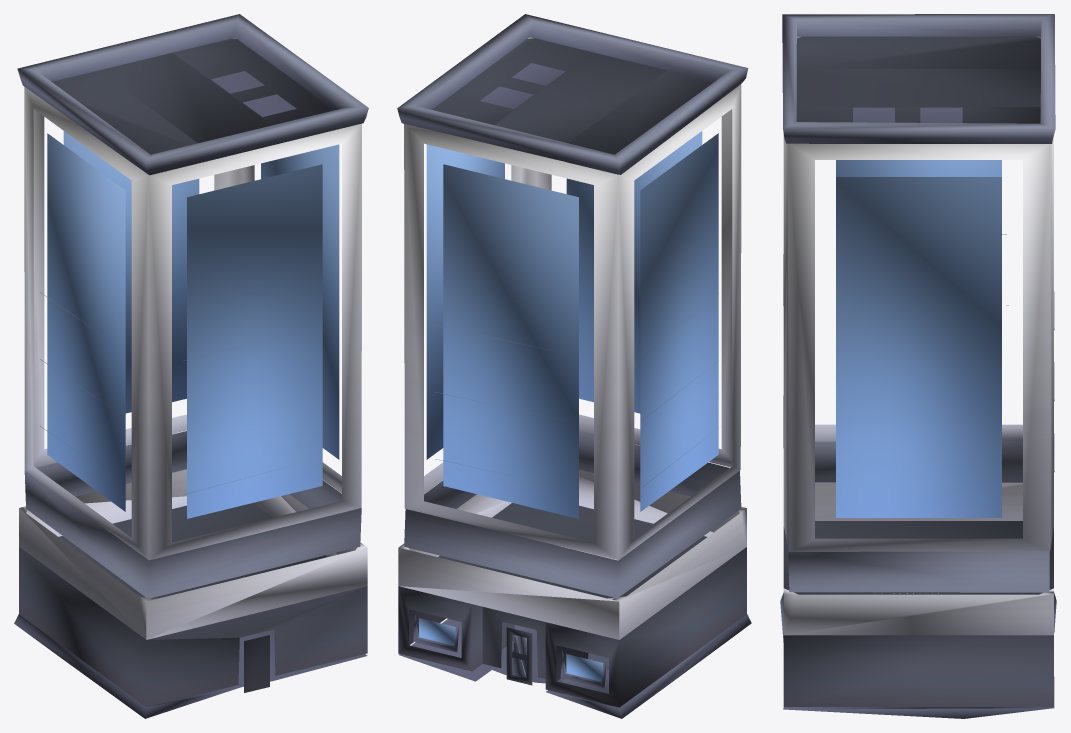
The model's file is tower-sky-a-low.glb.
3 renders of one model, left to right at view 1: azimuth 30°, elevation 25°; view 2: azimuth 150°, elevation 25°; view 3: azimuth 270°, elevation 25°, orthographic. The views are drawn at different scales.
Parts seen in each view (by area): view 1: building-skyscraper-a baked; view 2: building-skyscraper-a baked; view 3: building-skyscraper-a baked.
Boxes of the visible parts, x1,y1,x2,y2 form: building-skyscraper-a baked: (14, 14, 368, 718); building-skyscraper-a baked: (397, 14, 751, 718); building-skyscraper-a baked: (780, 14, 1056, 718).
Size of the model in its own units: 12.06 by 28 by 11.93.
1 material, 1 textured.
